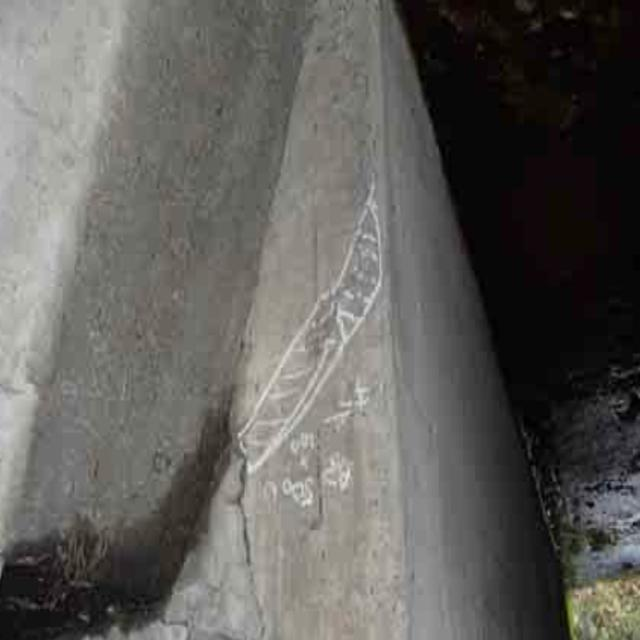spalling: (162, 387, 314, 640)
